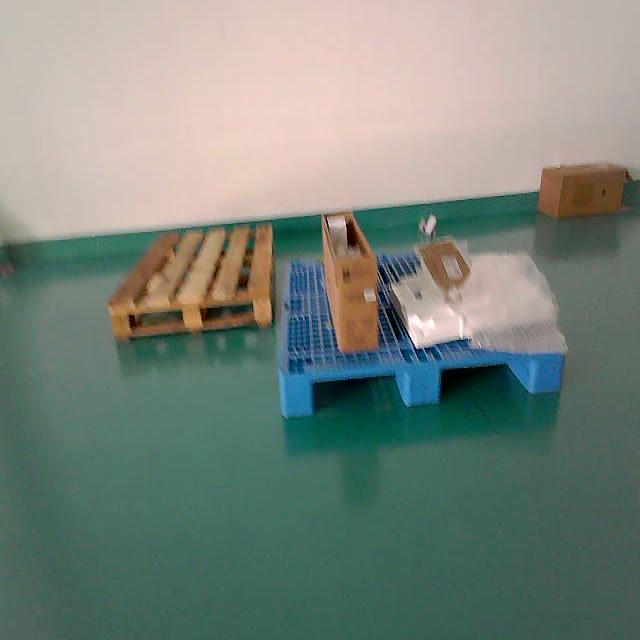euro: (108, 223, 274, 340)
